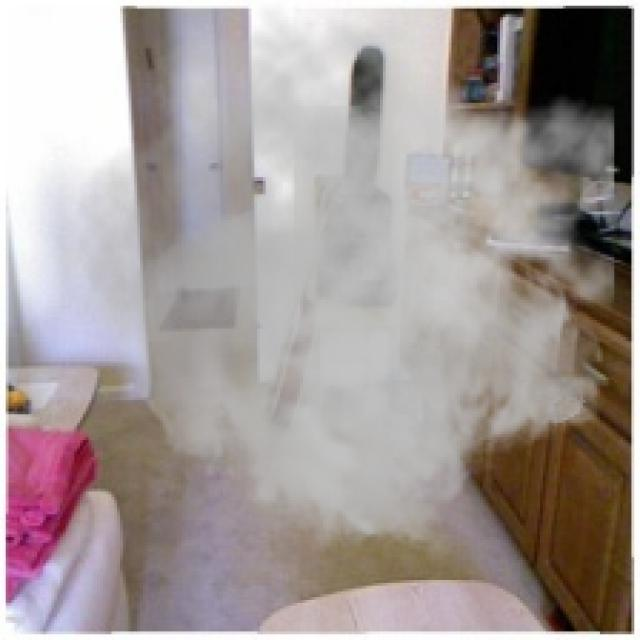smoke: (75, 0, 614, 563)
